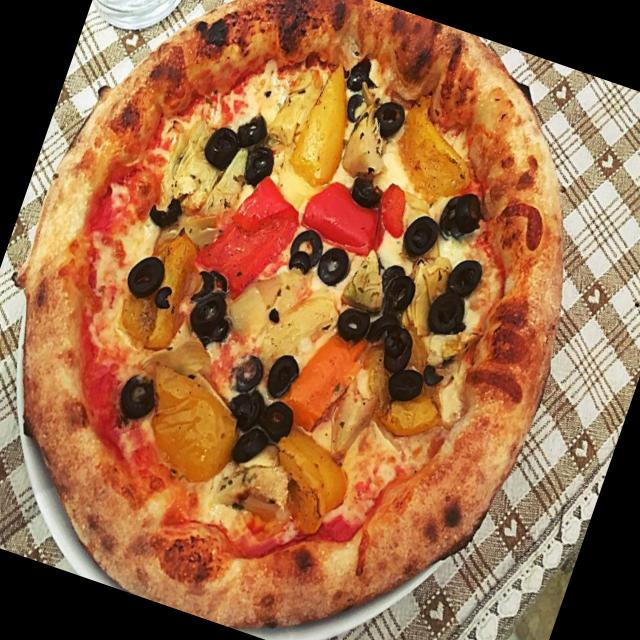black_olives: (176, 265, 242, 351), (433, 185, 488, 248), (425, 284, 476, 344), (111, 362, 162, 421), (372, 318, 422, 377), (312, 234, 362, 292), (395, 206, 444, 264), (197, 118, 244, 176), (285, 219, 332, 277), (120, 249, 170, 303), (375, 260, 421, 314), (227, 381, 272, 433), (235, 138, 281, 186), (380, 359, 428, 405), (258, 396, 302, 444), (230, 418, 272, 468), (444, 255, 488, 302), (330, 299, 374, 345), (264, 349, 304, 398), (230, 346, 270, 392), (232, 108, 272, 152), (143, 190, 184, 232), (346, 169, 390, 208), (371, 94, 406, 136), (344, 86, 371, 125)
peppers: (130, 360, 252, 490), (193, 164, 308, 296), (282, 62, 364, 189), (270, 428, 362, 539), (277, 322, 366, 430), (391, 104, 486, 196), (297, 177, 393, 262)
pizza: (16, 0, 565, 630)
